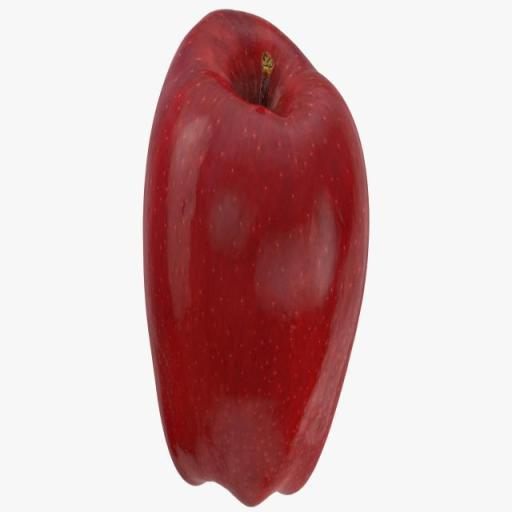fruit: (144, 10, 367, 504)
